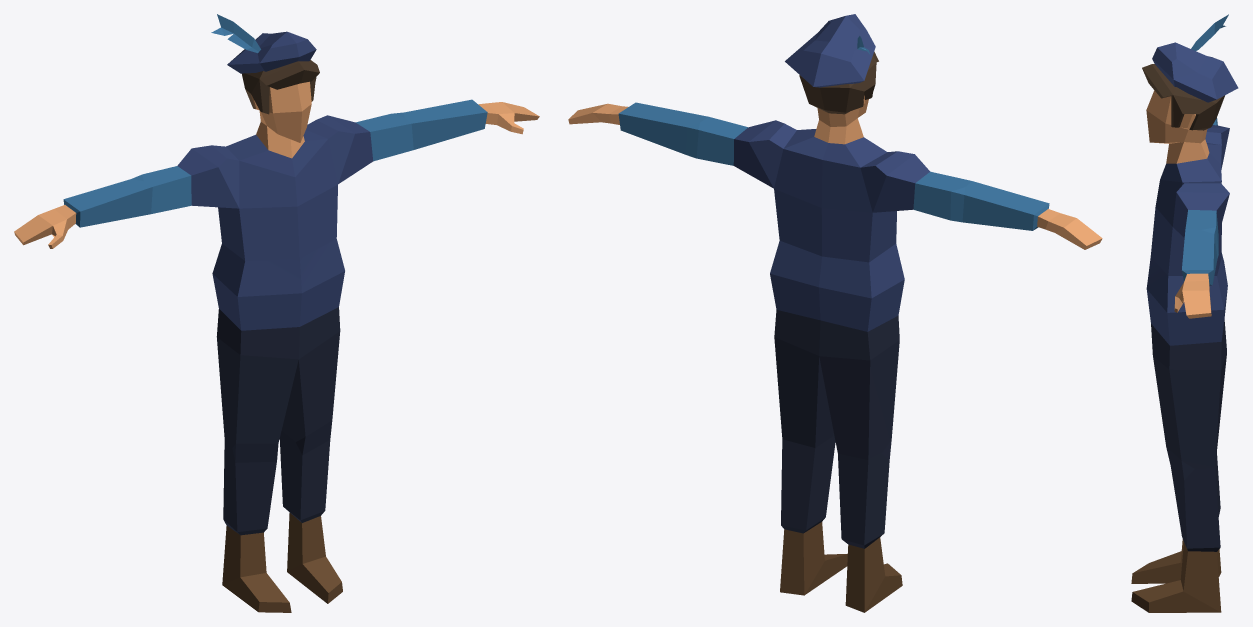
File: people_man-sir_rig.fbx
The picture shows the model from 3 angles, left to right: view 1: azimuth 30°, elevation 25°; view 2: azimuth 150°, elevation 25°; view 3: azimuth 270°, elevation 25°; orthographic projection. The views are drawn at different scales.
Parts seen in each view (by area): view 1: man_sir_Rig; view 2: man_sir_Rig; view 3: man_sir_Rig.
Boxes of the visible parts, <box> form: man_sir_Rig: <box>14,14,539,612</box>; man_sir_Rig: <box>568,14,1102,612</box>; man_sir_Rig: <box>1131,14,1238,612</box>.
Bounding box in the file's own units: 190 × 200 × 34.79.
